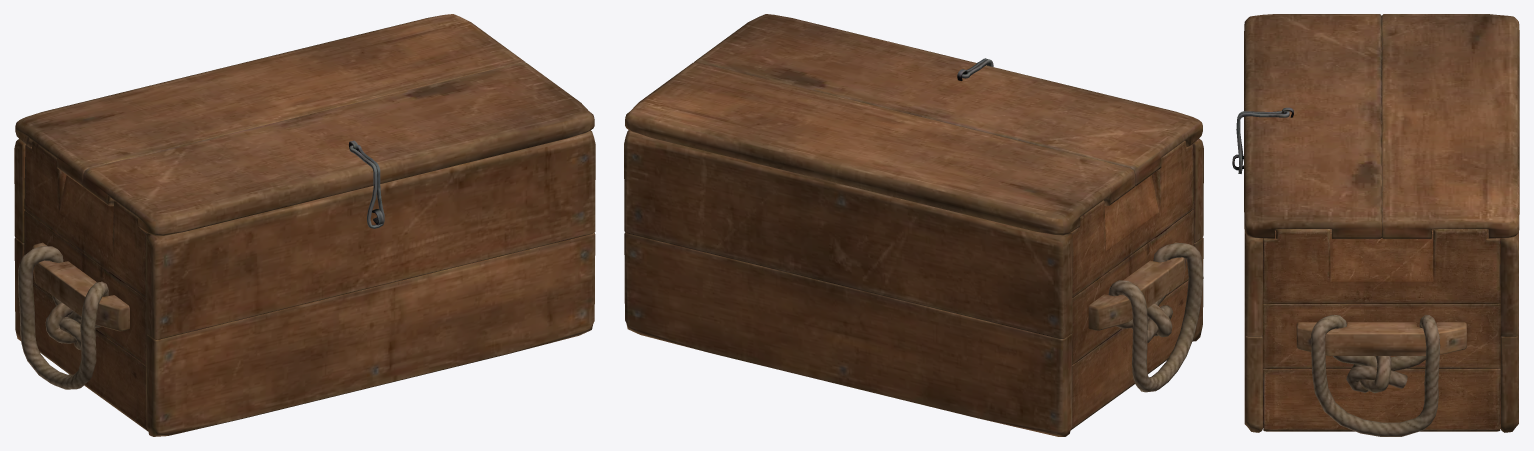
The model's file is wooden_crate_01.glb.
The picture shows the model from 3 angles, left to right: view 1: azimuth 30°, elevation 25°; view 2: azimuth 150°, elevation 25°; view 3: azimuth 270°, elevation 25°; orthographic projection. The views are drawn at different scales.
Parts seen in each view (by area): view 1: wooden_crate_01_lid; view 2: wooden_crate_01_lid; view 3: wooden_crate_01_lid.
Part boxes in pixels (bbox=[...]): wooden_crate_01_lid: bbox=[14, 14, 595, 436]; wooden_crate_01_lid: bbox=[624, 14, 1203, 436]; wooden_crate_01_lid: bbox=[1232, 14, 1519, 436].
Size of the model in its own units: 0.8253 by 0.3496 by 0.4089.
Materials: 1 (1 with a texture image).
